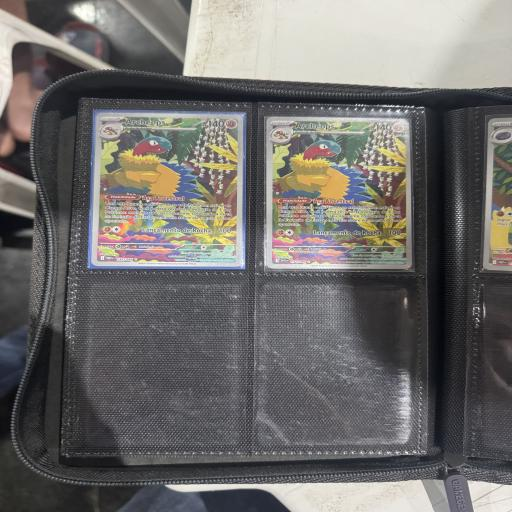card: (88, 110, 245, 267), (263, 116, 413, 269)
